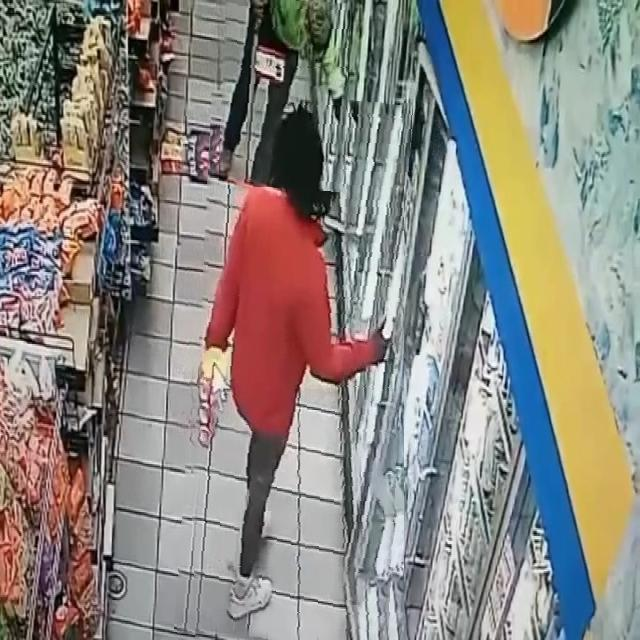normal: (183, 93, 404, 640), (218, 0, 348, 189)
